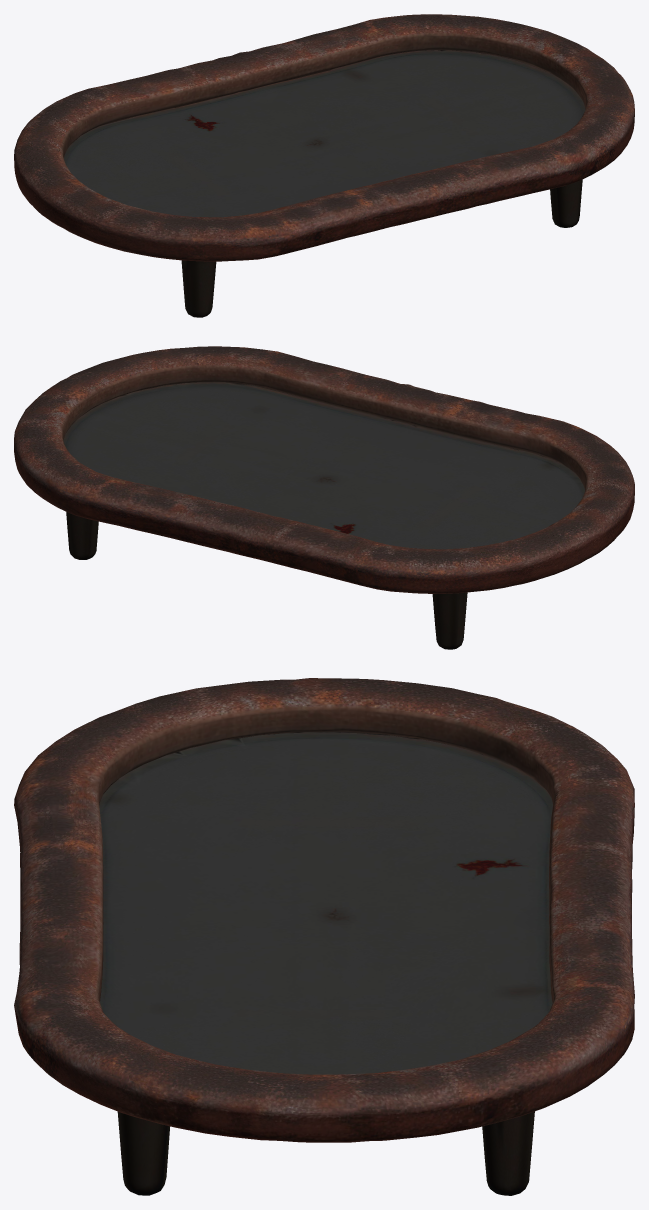
3 renders of one model, top to bottom at view 1: azimuth 30°, elevation 25°; view 2: azimuth 150°, elevation 25°; view 3: azimuth 270°, elevation 25°, orthographic. The views are drawn at different scales.
Visible parts, largest first — view 1: tripo_node_7f3f8a9a; view 2: tripo_node_7f3f8a9a; view 3: tripo_node_7f3f8a9a.
Boxes of the visible parts, x1,y1,x2,y2 form: tripo_node_7f3f8a9a: (14, 14, 634, 317); tripo_node_7f3f8a9a: (14, 346, 634, 649); tripo_node_7f3f8a9a: (14, 678, 634, 1195).
Bounding box in the file's own units: 0.9805 × 0.1786 × 0.5979.
Materials: 1 (1 with a texture image).
